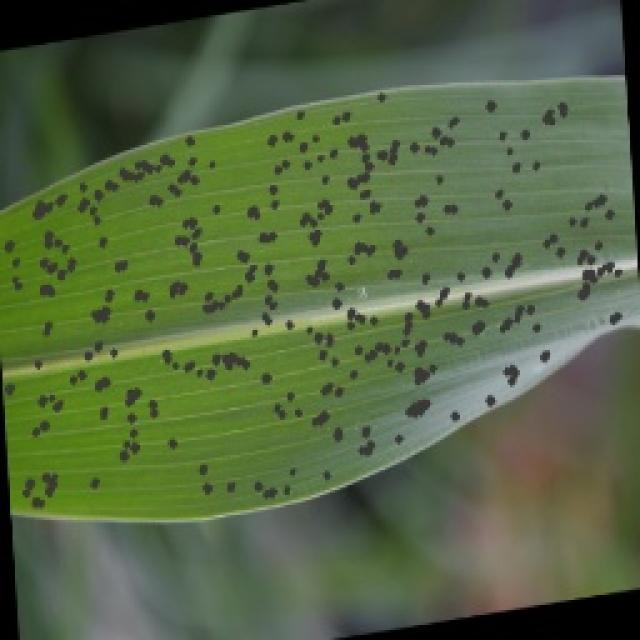Tar_Spot: (0, 72, 638, 522)
